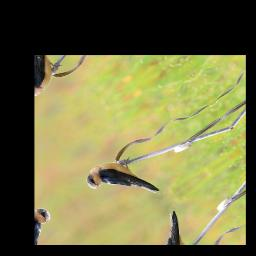Swallow: (78, 143, 166, 228)
